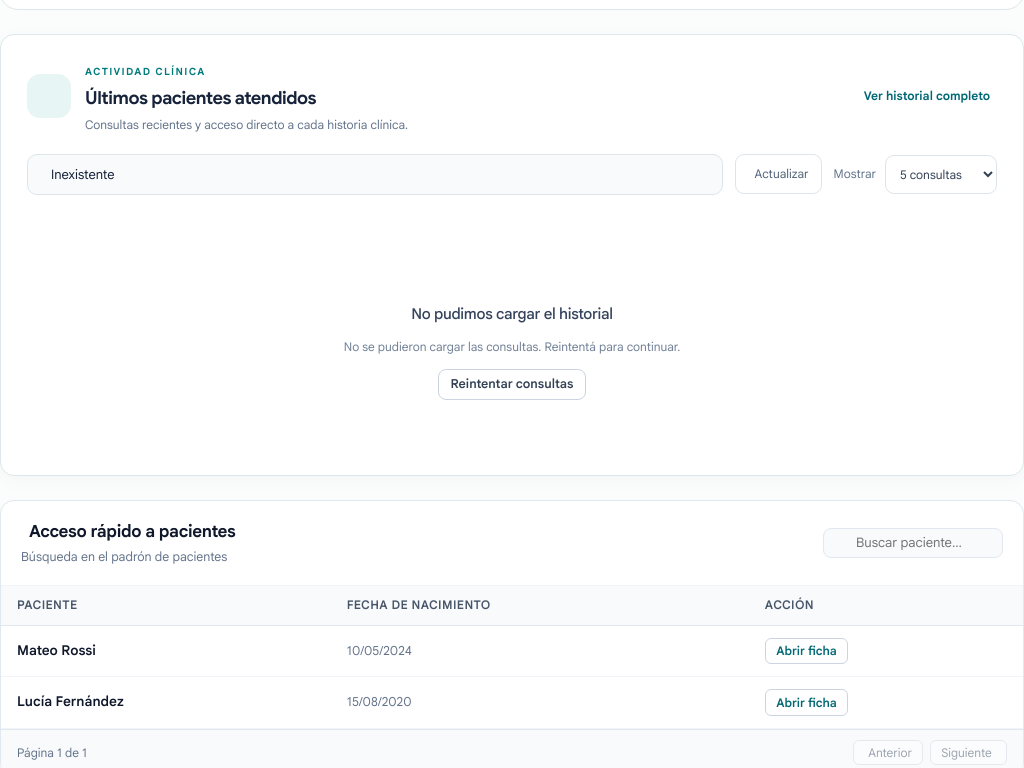
Test case: DashboardComponent › distinguishes a history failure from an empty search and supports retry
(page scrolled)
Expected: the message with class "recent-empty" is shown, [344,304,680,400]
Click the button "Reintentar consultas" at [512, 384], box [438,369,586,400]
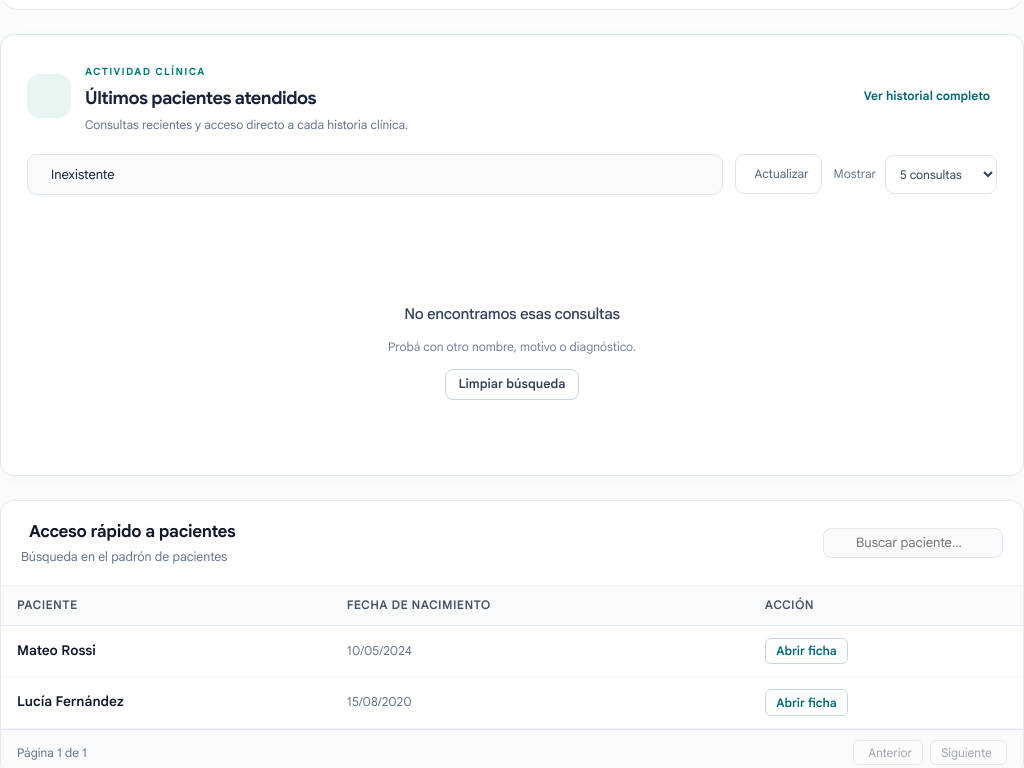
Expected: the element with class "recent-empty" shows "No encontramos esas consultas", [404,304,620,322]
